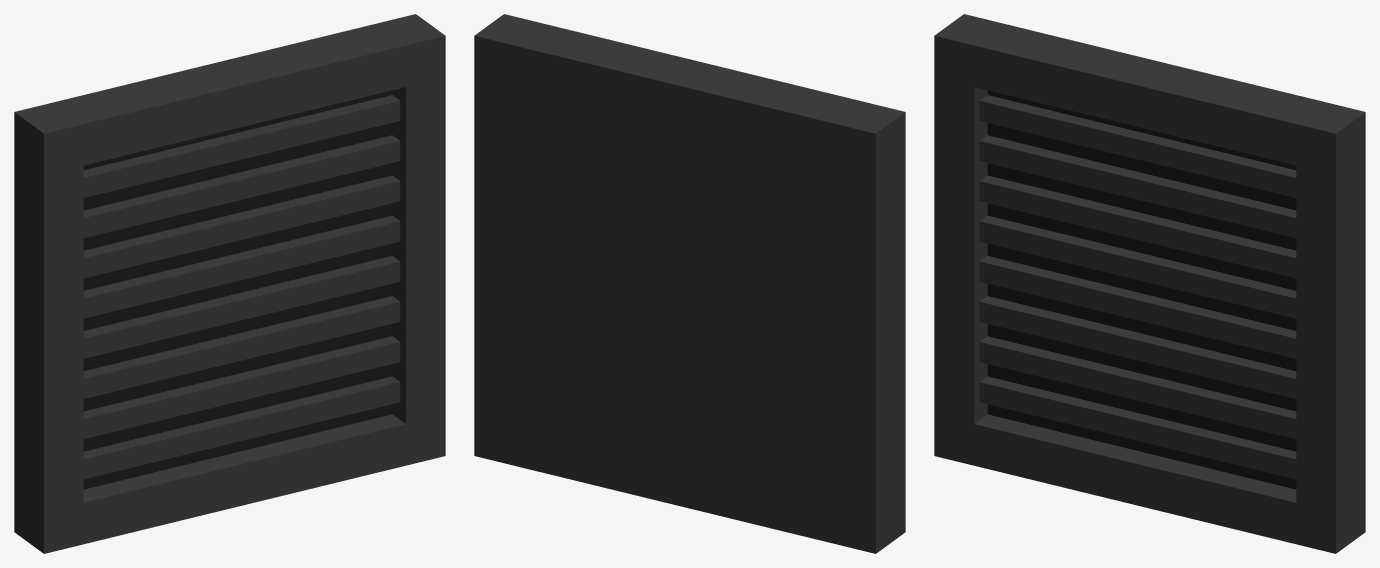
Rendered from SM_BuildingsDecor_02.fbx.
The picture shows the model from 3 angles, left to right: view 1: azimuth 30°, elevation 25°; view 2: azimuth 150°, elevation 25°; view 3: azimuth 330°, elevation 25°; orthographic projection.
Parts seen in each view (by area): view 1: SM_BuildingsDecor_02; view 2: SM_BuildingsDecor_02; view 3: SM_BuildingsDecor_02.
Part boxes in pixels (x1,y1,x2,y2): SM_BuildingsDecor_02: [14, 14, 445, 553]; SM_BuildingsDecor_02: [474, 14, 905, 553]; SM_BuildingsDecor_02: [934, 14, 1365, 553].
Bounding box in the file's own units: 0.603 × 0.603 × 0.0774.
